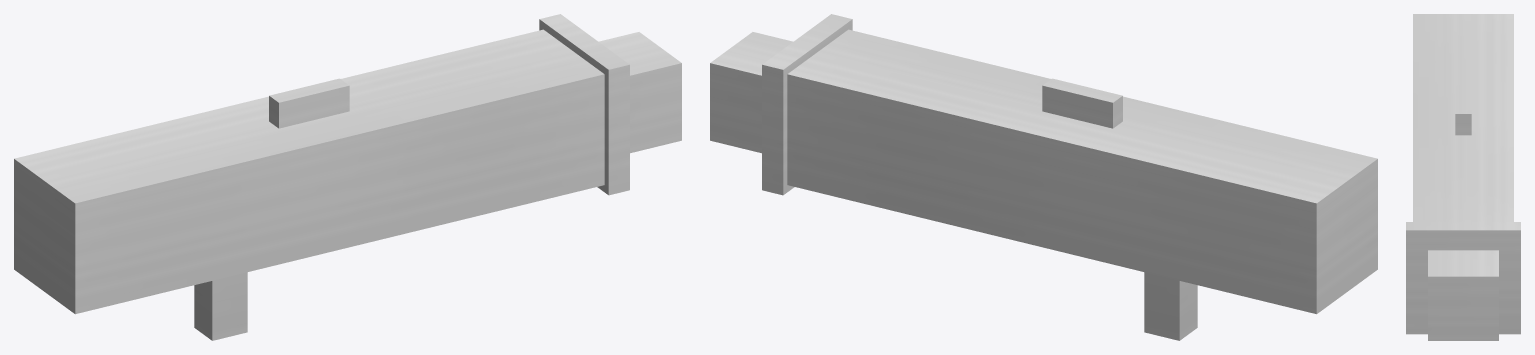
The model's file is rocket_launcher.obj.
3 renders of one model, left to right at view 1: azimuth 30°, elevation 25°; view 2: azimuth 150°, elevation 25°; view 3: azimuth 270°, elevation 25°, orthographic. The views are drawn at different scales.
Visible parts, largest first — view 1: rocket_launcher; view 2: rocket_launcher; view 3: rocket_launcher.
Boxes of the visible parts, left/top/right/bottom form: rocket_launcher: left=14, top=14, right=681, bottom=340; rocket_launcher: left=710, top=14, right=1377, bottom=340; rocket_launcher: left=1406, top=14, right=1520, bottom=340.
Size of the model in its own units: 0.8725 by 0.295 by 0.17.
